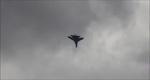maybay_muctieu: (68, 31, 85, 50)
